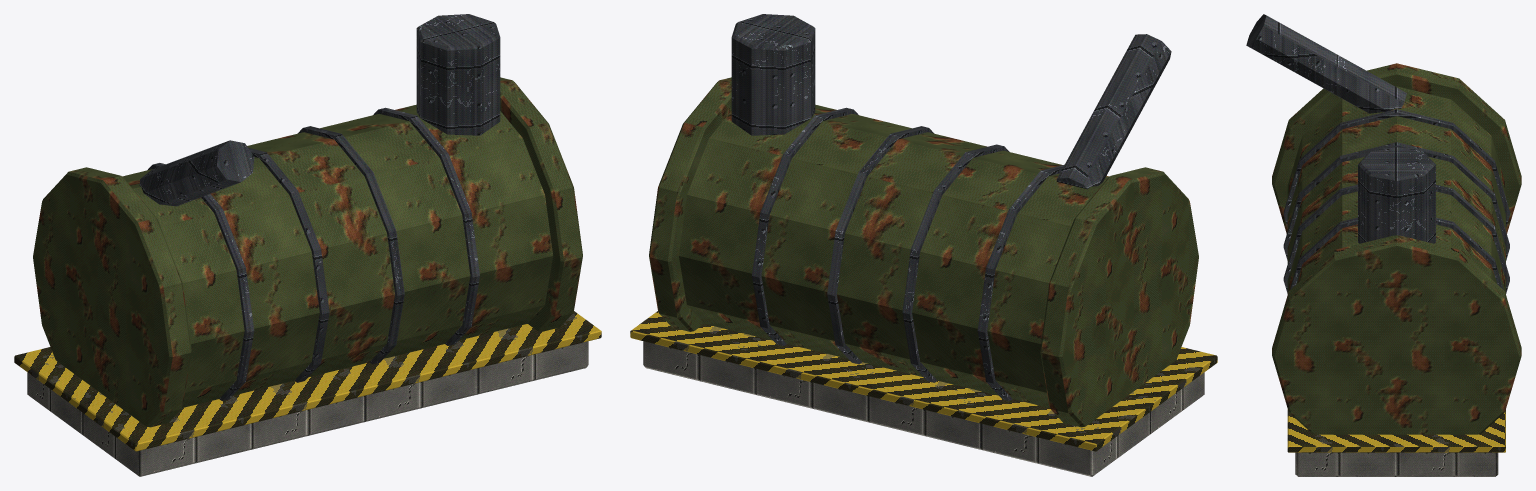
Rendered from int_turbine.glb.
The picture shows the model from 3 angles, left to right: view 1: azimuth 30°, elevation 25°; view 2: azimuth 150°, elevation 25°; view 3: azimuth 270°, elevation 25°; orthographic projection. The views are drawn at different scales.
Parts seen in each view (by area): view 1: int_turbine_mesh; view 2: int_turbine_mesh; view 3: int_turbine_mesh.
Boxes of the visible parts, x1,y1,x2,y2 form: int_turbine_mesh: (14,14,601,476); int_turbine_mesh: (630,14,1217,476); int_turbine_mesh: (1246,14,1521,476).
Size of what is drawn, in the model's own units: 6.2 by 4.21 by 3.53.
4 materials, 4 textured.
